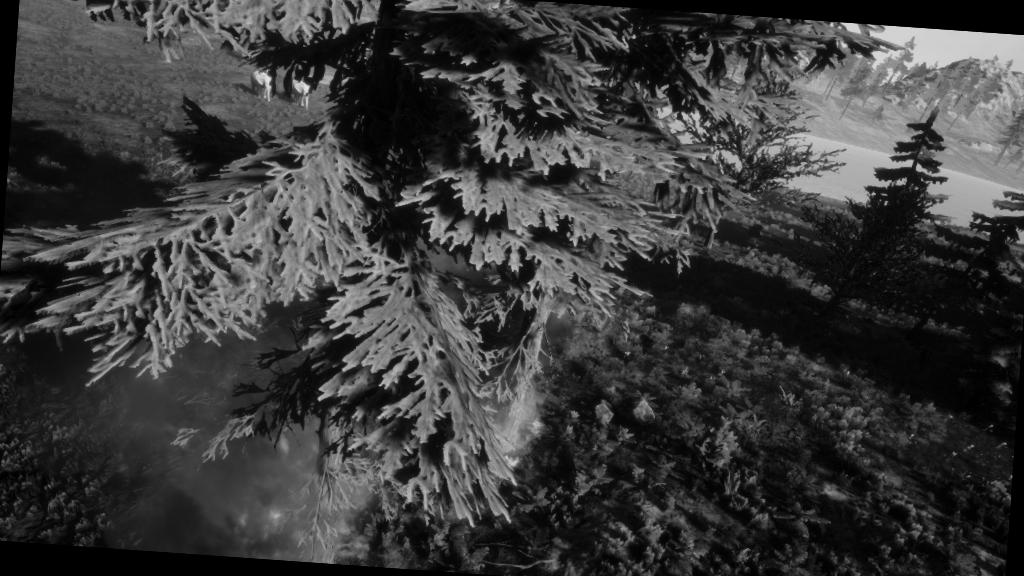Fire: (446, 372, 586, 482)
elephant: (278, 72, 314, 116), (241, 65, 278, 107)
smoke: (43, 270, 448, 570)
